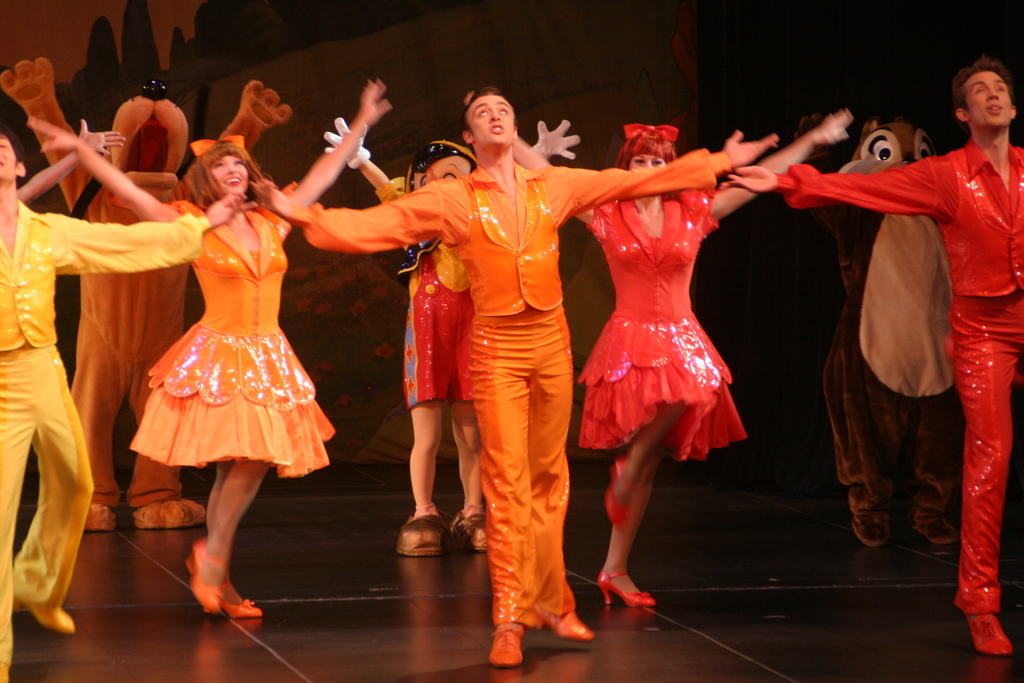Person: (0, 58, 1024, 683)
